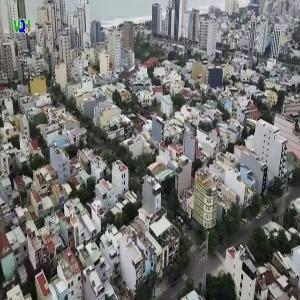drone: (97, 46, 160, 109)
